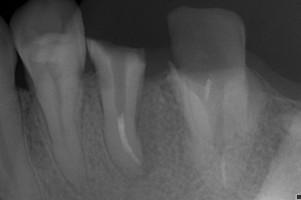Dental Caries: (113, 80, 160, 182)
